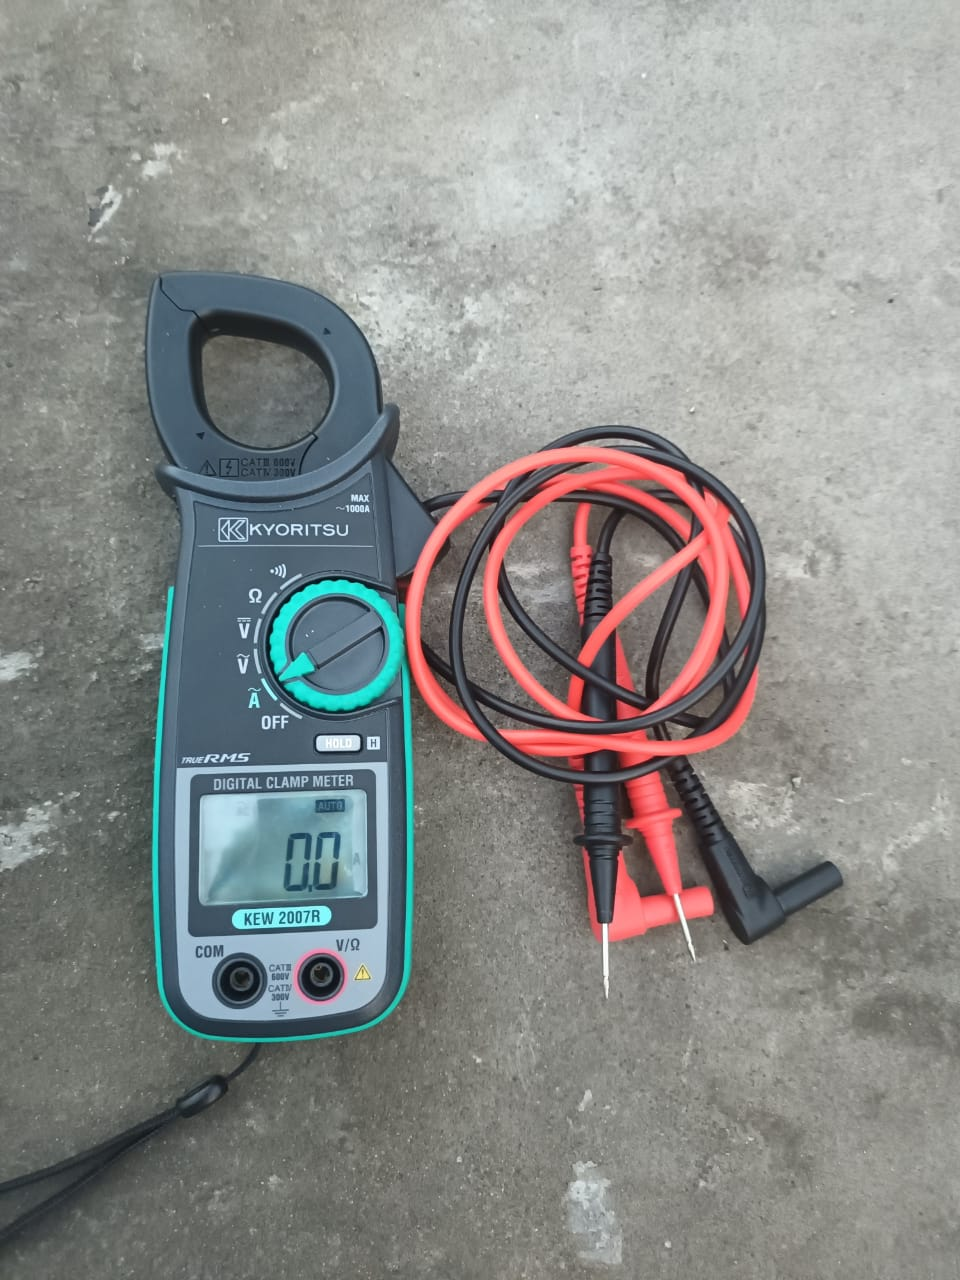TANG_AMPERE: (133, 266, 451, 1045)
